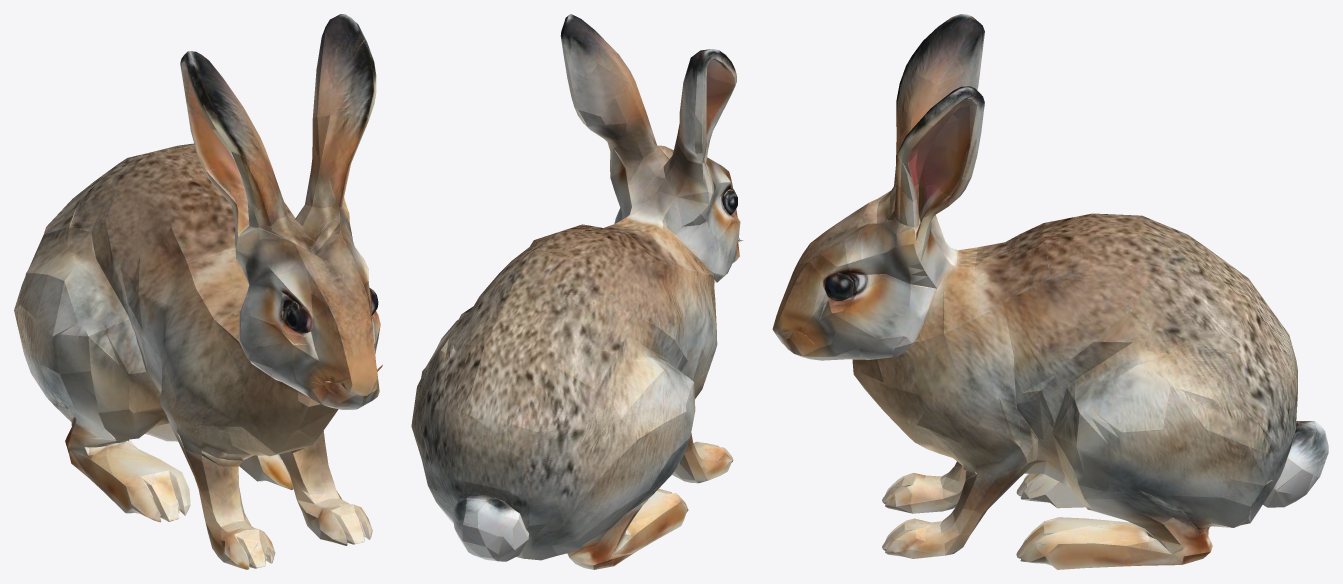
File: Rabbit.glb
3 renders of one model, left to right at view 1: azimuth 30°, elevation 25°; view 2: azimuth 150°, elevation 25°; view 3: azimuth 270°, elevation 25°, orthographic. The views are drawn at different scales.
Size of the model in its own units: 1.02 by 1.79 by 1.9.
Materials: 1 (1 with a texture image).
